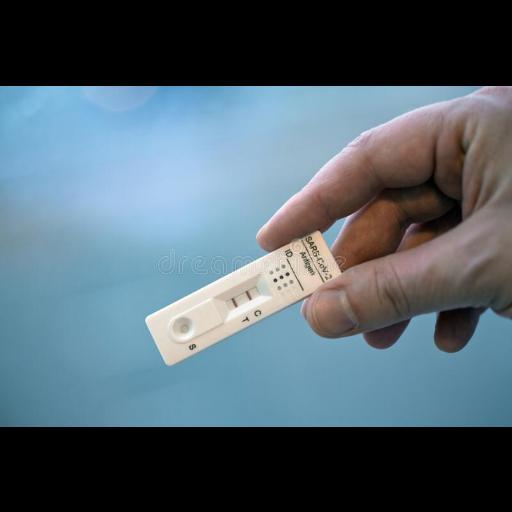Pos: (145, 228, 345, 366)
